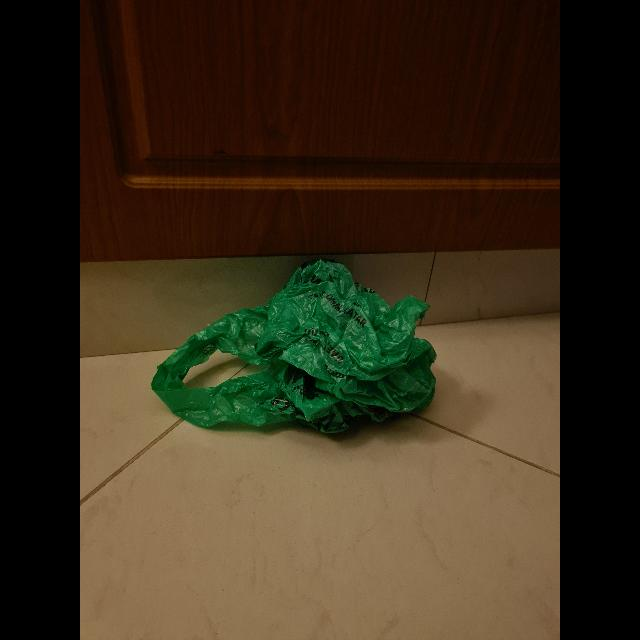plastic_bag: (139, 255, 445, 445)
